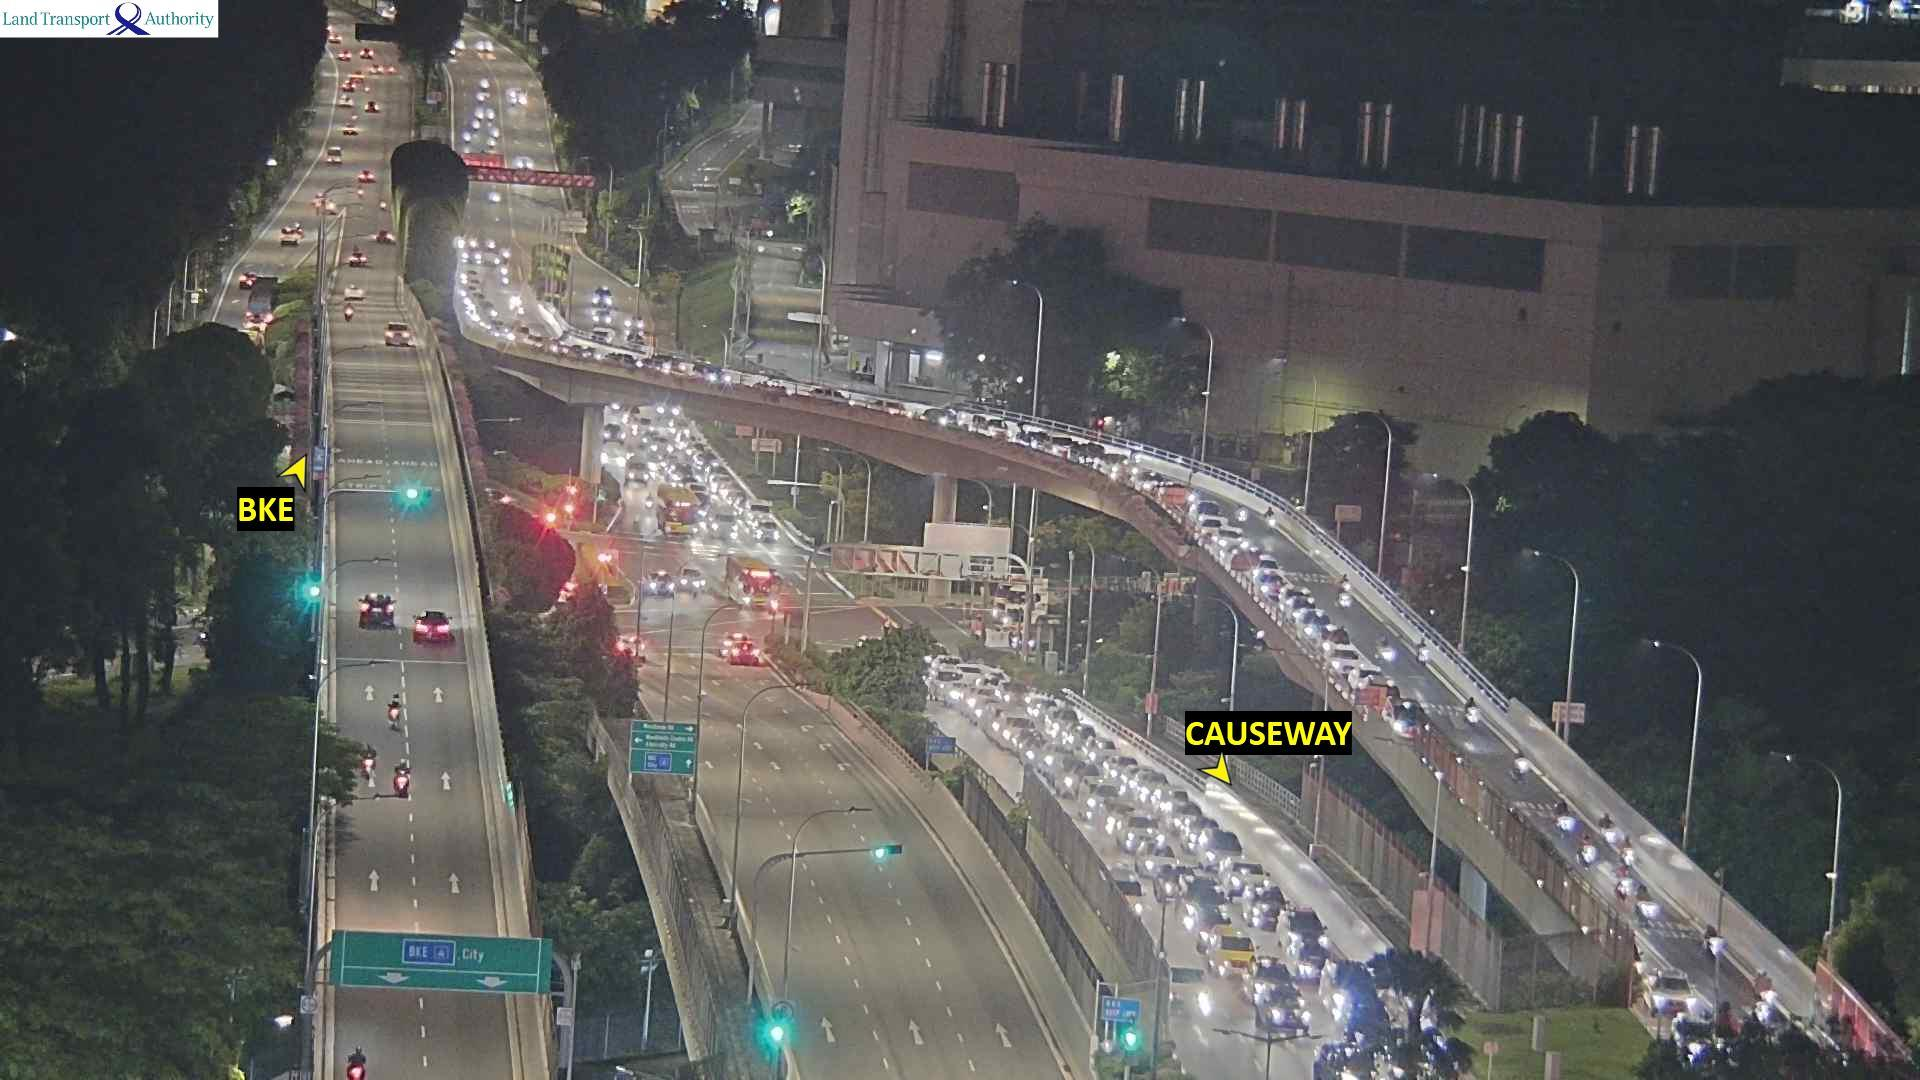vehicle-causeway-johor: (1651, 975, 1708, 1021), (1145, 862, 1205, 899), (1121, 811, 1166, 855), (661, 485, 698, 535), (1168, 964, 1207, 1010), (1275, 909, 1328, 938), (1216, 943, 1262, 976), (1068, 769, 1114, 802), (1212, 931, 1254, 965), (1240, 886, 1280, 918), (1200, 837, 1242, 866), (1228, 861, 1265, 894), (1087, 786, 1126, 816), (1170, 799, 1205, 832), (1110, 868, 1138, 909), (972, 670, 1022, 692), (1102, 802, 1139, 832), (1180, 822, 1218, 851), (1191, 513, 1232, 539), (1133, 769, 1170, 798), (1386, 700, 1419, 731), (1050, 707, 1083, 737), (1302, 940, 1331, 975), (1266, 993, 1303, 1019), (1160, 791, 1195, 819), (1021, 740, 1060, 764), (1017, 430, 1064, 450), (1329, 647, 1362, 675), (963, 694, 1001, 717), (1036, 750, 1075, 774), (1352, 666, 1386, 692), (1251, 963, 1286, 989), (1030, 696, 1064, 721), (1215, 527, 1246, 554), (1005, 686, 1039, 709), (636, 355, 676, 375), (1308, 616, 1344, 638), (1141, 781, 1174, 804), (1101, 757, 1137, 778), (1050, 757, 1081, 779), (1291, 601, 1319, 625), (750, 375, 782, 394), (708, 510, 735, 534), (1138, 471, 1163, 495), (866, 401, 903, 417), (1101, 455, 1129, 476), (516, 327, 543, 348), (724, 488, 753, 508), (705, 465, 735, 485), (700, 367, 733, 384), (1638, 886, 1654, 922), (932, 670, 955, 695), (975, 699, 1001, 720), (1006, 713, 1034, 733), (971, 415, 1000, 434), (709, 475, 738, 493), (1199, 902, 1222, 924), (1073, 446, 1098, 467), (806, 384, 839, 400), (754, 520, 777, 542), (1043, 440, 1072, 458), (1093, 740, 1113, 764), (1067, 727, 1092, 745), (655, 456, 682, 473), (630, 456, 647, 481), (1604, 816, 1619, 843), (1580, 833, 1594, 861), (1750, 973, 1767, 996), (1185, 498, 1203, 521), (926, 409, 952, 423), (578, 347, 601, 361), (609, 353, 632, 368), (1619, 868, 1630, 898), (691, 481, 709, 498), (688, 446, 715, 458), (1464, 695, 1476, 720), (698, 455, 724, 465), (604, 425, 622, 439), (1556, 800, 1567, 825), (1513, 749, 1522, 777), (645, 438, 666, 450), (749, 501, 767, 514), (462, 289, 480, 302), (674, 467, 696, 477), (473, 306, 495, 316), (463, 251, 481, 262), (1420, 636, 1427, 665), (1705, 924, 1713, 947), (462, 269, 475, 282), (1626, 840, 1634, 861), (483, 253, 496, 265), (640, 433, 653, 443)
vehicle-causeway-singapore: (723, 637, 771, 667), (356, 596, 390, 628), (417, 612, 447, 641), (347, 1046, 364, 1079), (386, 323, 409, 345), (361, 744, 376, 778), (398, 761, 414, 787), (344, 252, 368, 268), (392, 699, 402, 725), (343, 289, 355, 303), (345, 306, 352, 320)
